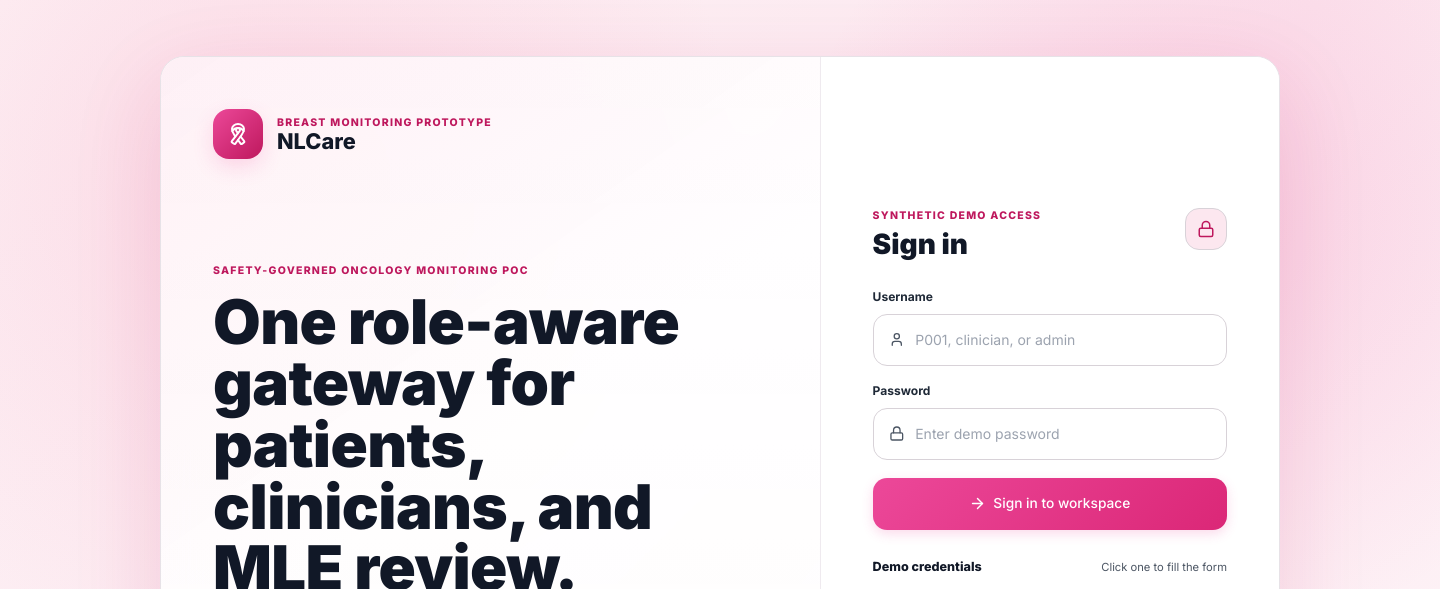
Scenario: authentication and route boundaries › shows a bounded login error without exposing an internal exception
The image size is (1440, 589).
Type "P001" into the field labelled "Username" at {"x": 1063, "y": 340}, box [915,329,1211,350]
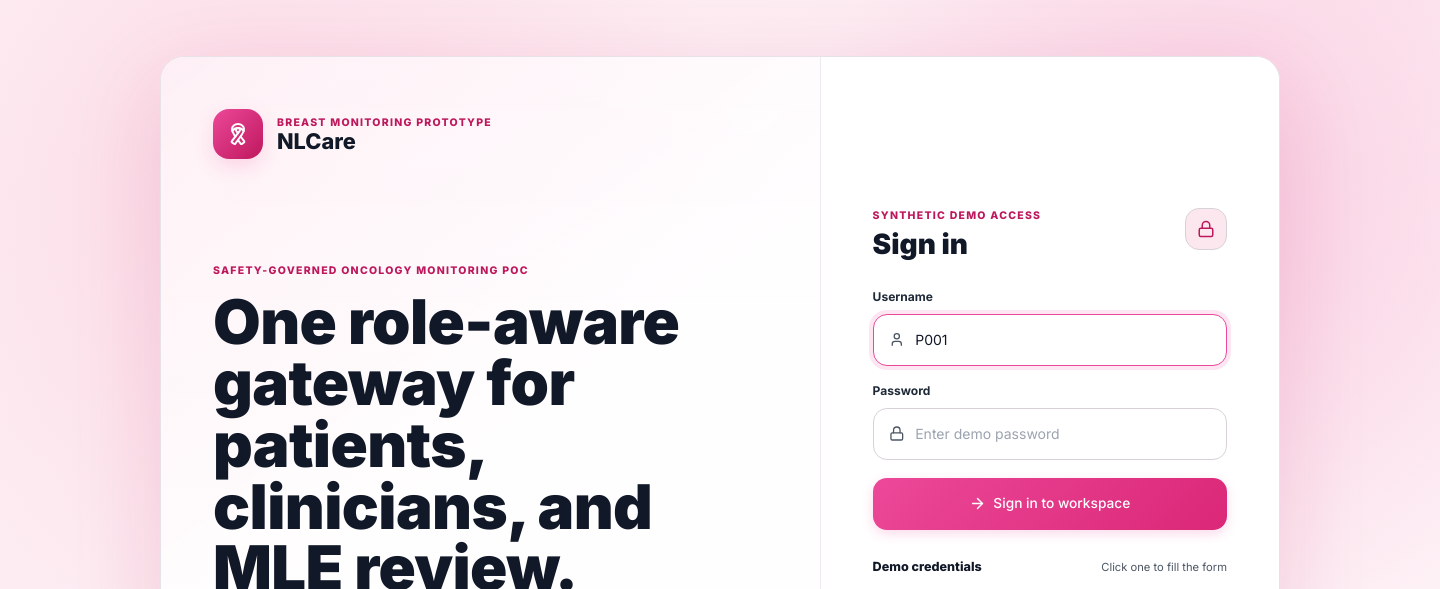
Type "wrong" into the password field labelled "Password" at {"x": 1063, "y": 434}, box [915,423,1211,444]
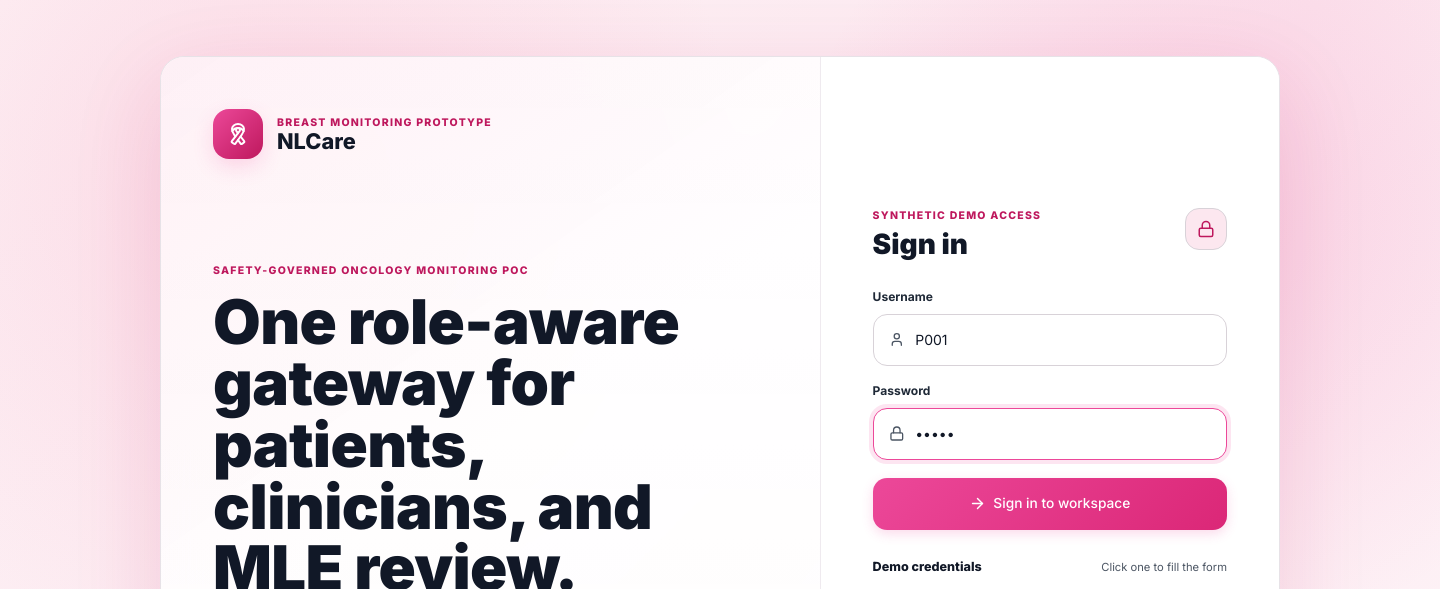
Click the button "Sign in to workspace" at {"x": 1050, "y": 504}, box [873,478,1227,530]
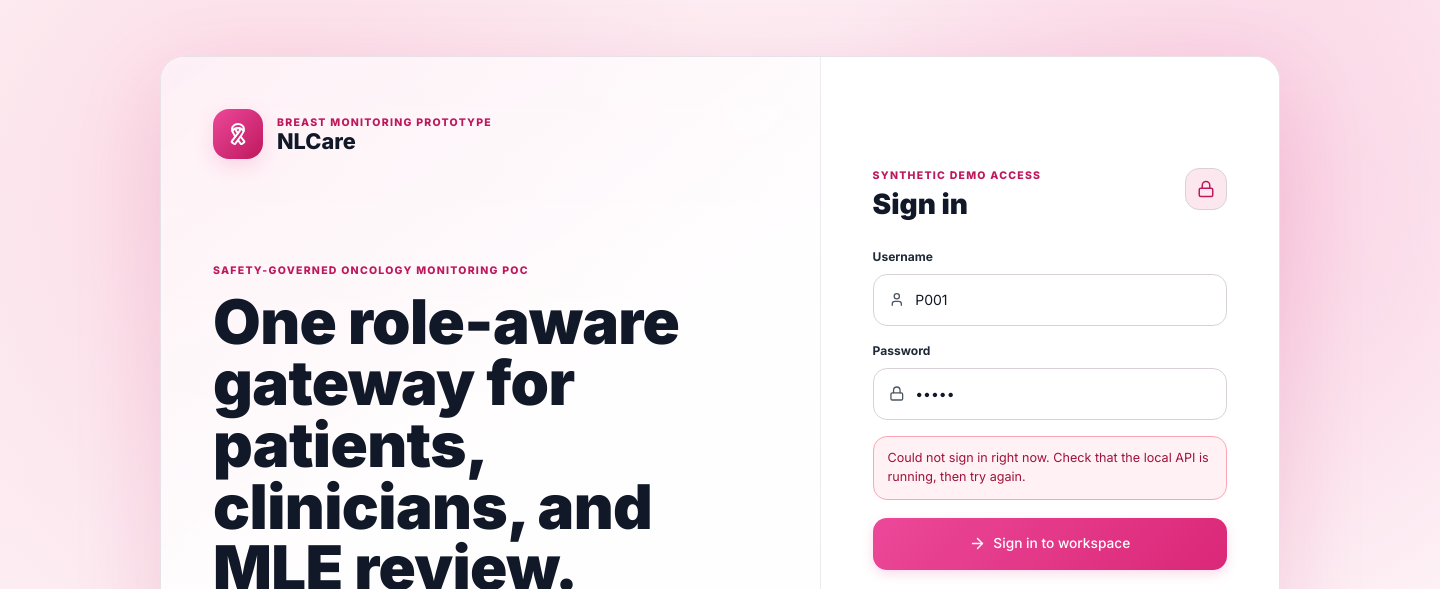
Expected: the button "Sign in to workspace" is enabled, [873,518,1227,570]
Expected: the message shows "Could not sign in", [888,450,1209,484]
